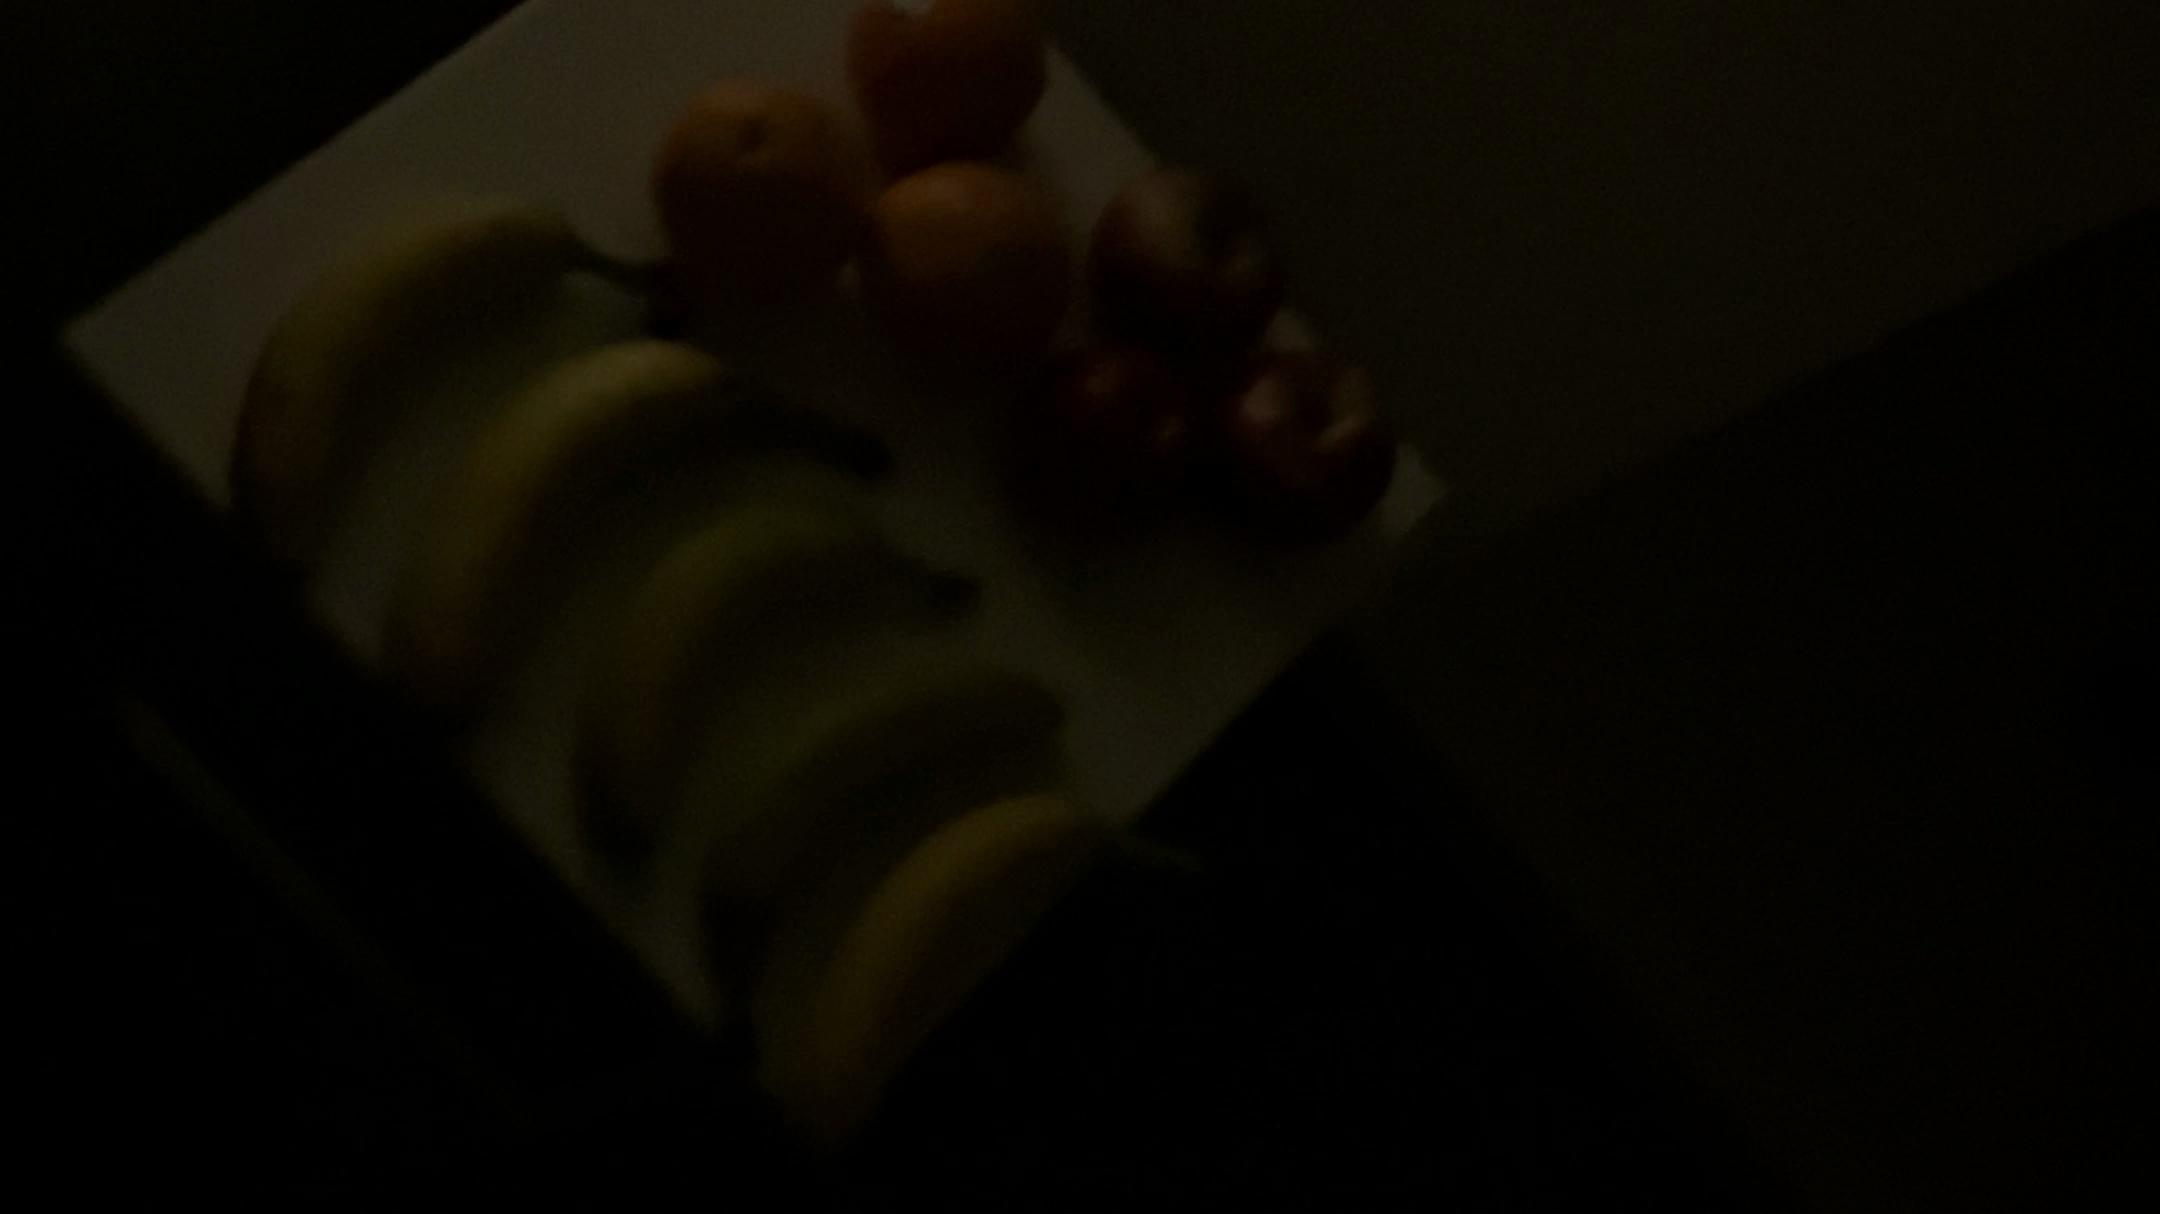apple: (1181, 329, 1403, 568), (985, 313, 1179, 561), (1095, 148, 1291, 368)
banana: (205, 199, 682, 540), (549, 497, 987, 841), (386, 341, 780, 715), (709, 643, 1068, 963), (837, 791, 1136, 1118)
orange: (642, 67, 886, 315), (846, 140, 1084, 386), (846, 10, 1064, 156)
